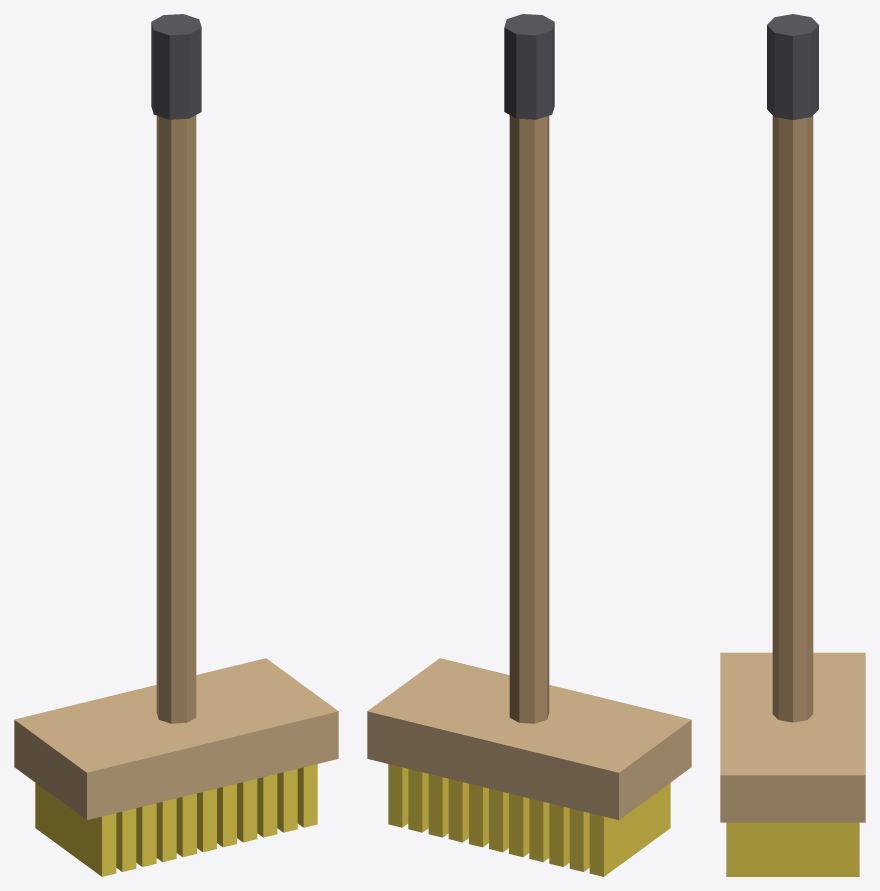
Rendered from broom.glb.
The picture shows the model from 3 angles, left to right: view 1: azimuth 30°, elevation 25°; view 2: azimuth 150°, elevation 25°; view 3: azimuth 270°, elevation 25°; orthographic projection.
Parts seen in each view (by area): view 1: broom; view 2: broom; view 3: broom.
Part boxes in pixels (x1,y1,x2,y2): broom: (14, 14, 338, 876); broom: (367, 14, 691, 876); broom: (720, 14, 865, 876).
Bounding box in the file's own units: 0.5 × 1.52 × 0.25.
